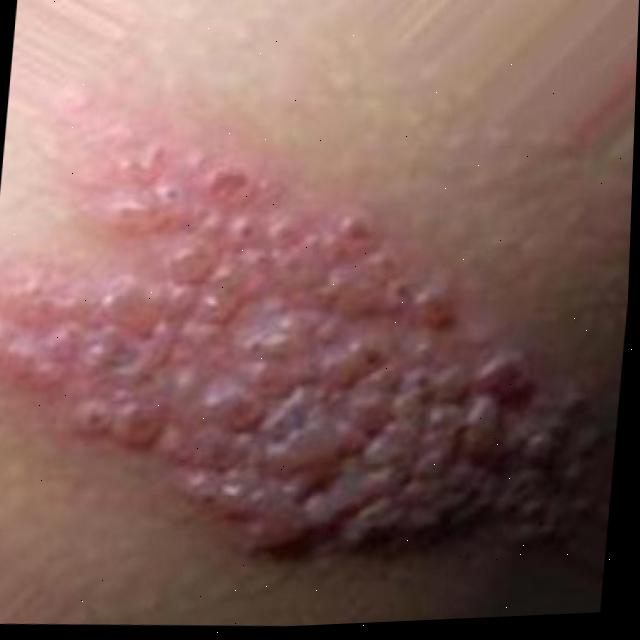Shingles: (0, 112, 625, 593)
